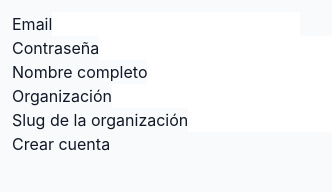
RegisterForm › requires all fields
This screenshot has width=332, height=192.
Click the button "Crear cuenta": (61, 144) 12,132 -> 110,156
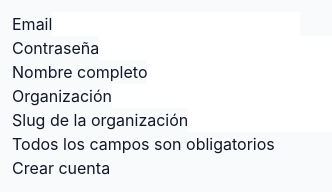
Check: the message "Todos los campos son obligatorios" is shown, box 12,134 -> 275,154
